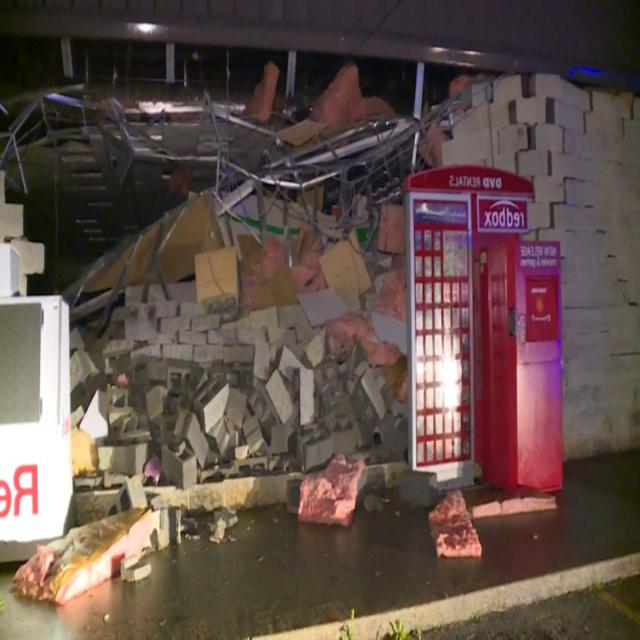Severely_Damaged: (4, 44, 611, 578)
